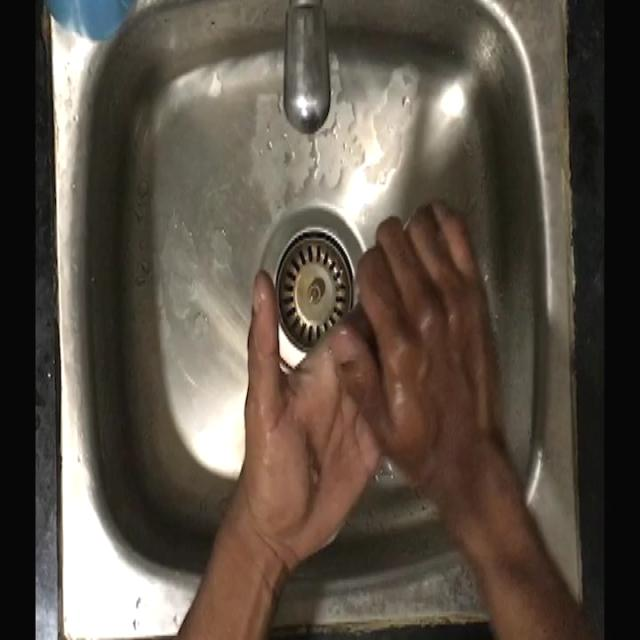step_5: (239, 195, 510, 577)
